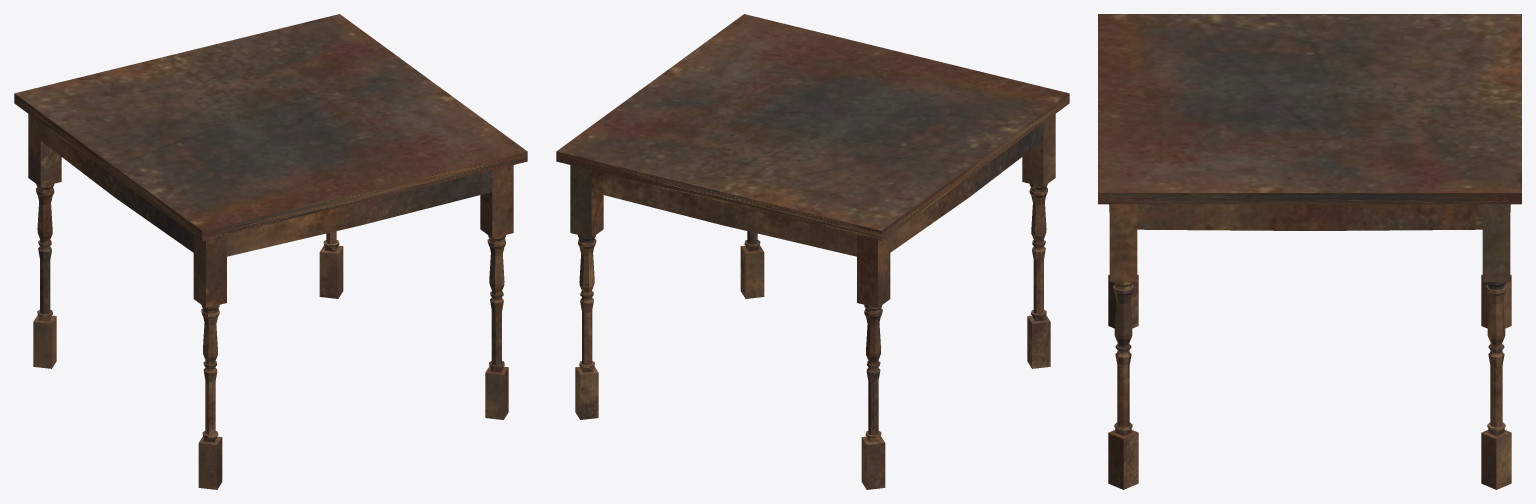
File: Mesa arreglada.fbx
The picture shows the model from 3 angles, left to right: view 1: azimuth 30°, elevation 25°; view 2: azimuth 150°, elevation 25°; view 3: azimuth 270°, elevation 25°; orthographic projection. The views are drawn at different scales.
Parts seen in each view (by area): view 1: pCube1; view 2: pCube1; view 3: pCube1.
Part boxes in pixels (bbox=[...]): pCube1: bbox=[14, 14, 527, 489]; pCube1: bbox=[556, 14, 1069, 489]; pCube1: bbox=[1098, 14, 1521, 489].
Bounding box in the file's own units: 131 × 102 × 131.
